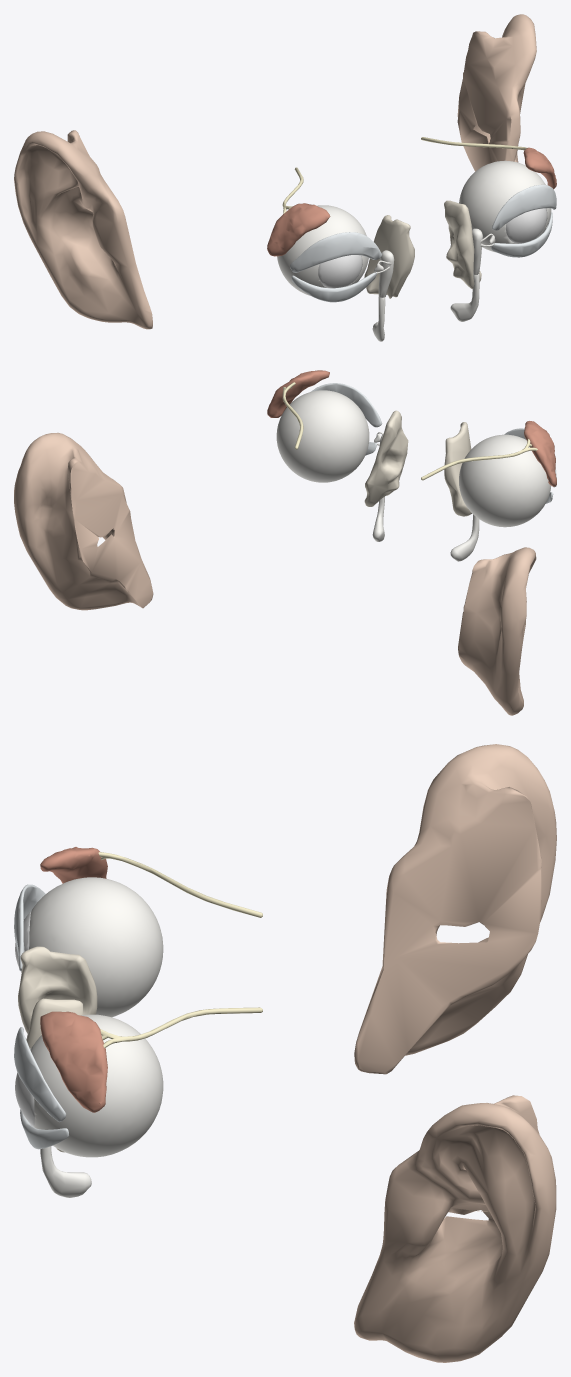
File: body-senses.glb
3 renders of one model, top to bottom at view 1: azimuth 30°, elevation 25°; view 2: azimuth 150°, elevation 25°; view 3: azimuth 270°, elevation 25°, orthographic. The views are drawn at different scales.
Parts seen in each view (by area): view 1: FJ2811, FJ1317, FJ1368, FJ3371, FJ3265, FJ1375, FJ1350, FJ1324, FJ1340, FJ1289, FJ1379, FJ1328 (+4 smaller); view 2: FJ2811, FJ1317, FJ1368, FJ3265, FJ3371, FJ1350, FJ1299, FJ1324, FJ1353, FJ1351; view 3: FJ2811, FJ1368, FJ1317, FJ1299, FJ3371, FJ1324, FJ1350, FJ1302, FJ1300, FJ3265, FJ1351, FJ1375 (+1 smaller).
Boxes of the visible parts, x1,y1,x2,y2 form: FJ2811: (14, 14, 536, 329); FJ1317: (459, 160, 551, 252); FJ1368: (277, 205, 368, 295); FJ3371: (364, 215, 414, 298); FJ3265: (444, 200, 481, 288); FJ1375: (290, 232, 382, 272); FJ1350: (267, 203, 330, 256); FJ1324: (492, 184, 556, 230); FJ1340: (318, 255, 362, 288); FJ1289: (506, 208, 547, 243); FJ1379: (291, 272, 376, 302); FJ1328: (491, 212, 552, 257); FJ2811: (14, 432, 536, 715); FJ1317: (276, 390, 369, 482); FJ1368: (459, 434, 551, 527); FJ3265: (364, 410, 408, 506); FJ3371: (444, 422, 471, 516); FJ1350: (524, 421, 556, 486); FJ1299: (267, 370, 329, 417); FJ1324: (311, 383, 382, 427); FJ1353: (450, 514, 479, 561); FJ1351: (421, 439, 537, 480); FJ2811: (354, 744, 556, 1362); FJ1368: (29, 877, 163, 1017); FJ1317: (30, 1014, 163, 1157); FJ1299: (40, 1011, 107, 1112); FJ3371: (18, 946, 97, 1033); FJ1324: (14, 1027, 66, 1121); FJ1350: (40, 847, 107, 883); FJ1302: (40, 1146, 91, 1197); FJ1300: (100, 1007, 262, 1047); FJ3265: (26, 998, 82, 1152); FJ1351: (98, 852, 262, 917); FJ1375: (14, 884, 45, 971).
Bounding box in the file's own units: 0.1675 × 0.057 × 0.0997.
